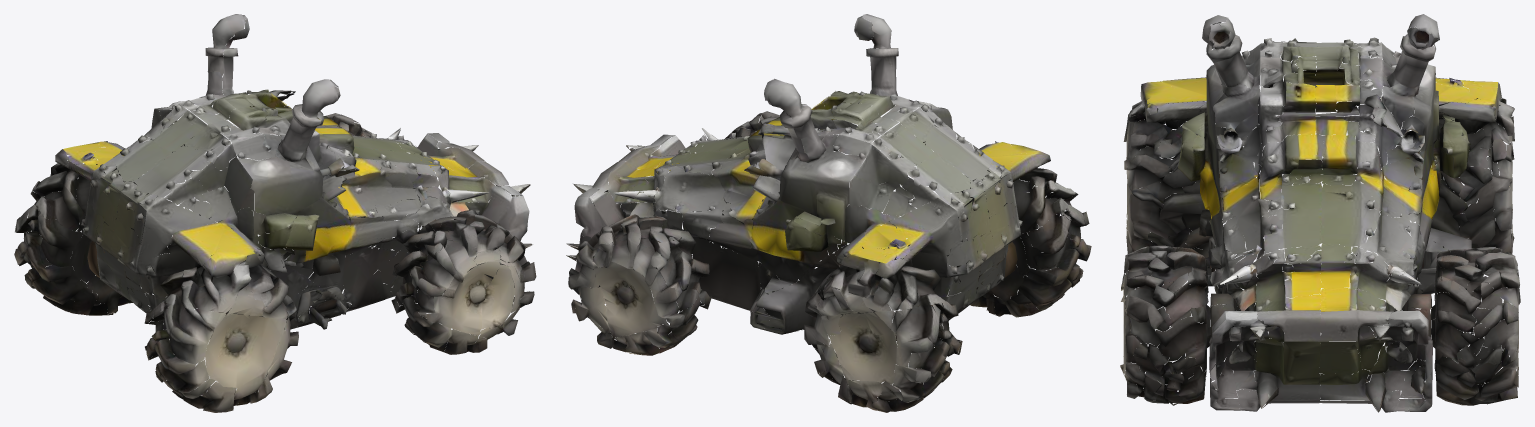
File: warrig.glb
3 renders of one model, left to right at view 1: azimuth 30°, elevation 25°; view 2: azimuth 150°, elevation 25°; view 3: azimuth 270°, elevation 25°, orthographic. The views are drawn at different scales.
Visible parts, largest first — view 1: tripo_node_e5324fc5-3a65-4fb7-bb55-0d2f488da523; view 2: tripo_node_e5324fc5-3a65-4fb7-bb55-0d2f488da523; view 3: tripo_node_e5324fc5-3a65-4fb7-bb55-0d2f488da523.
Boxes of the visible parts, <box> form: tripo_node_e5324fc5-3a65-4fb7-bb55-0d2f488da523: <box>14,14,536,412</box>; tripo_node_e5324fc5-3a65-4fb7-bb55-0d2f488da523: <box>566,14,1091,412</box>; tripo_node_e5324fc5-3a65-4fb7-bb55-0d2f488da523: <box>1120,14,1520,412</box>.
Size of the model in its own units: 1 by 0.6285 by 0.7219.
Materials: 1 (1 with a texture image).
